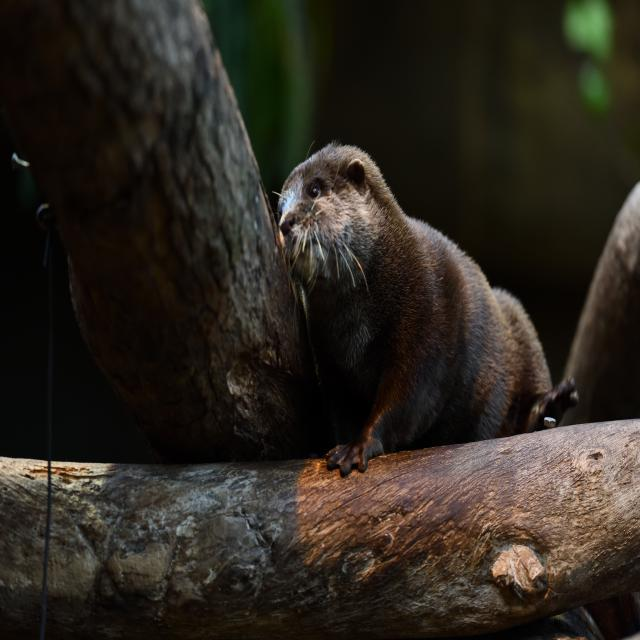otter: (280, 143, 548, 442)
